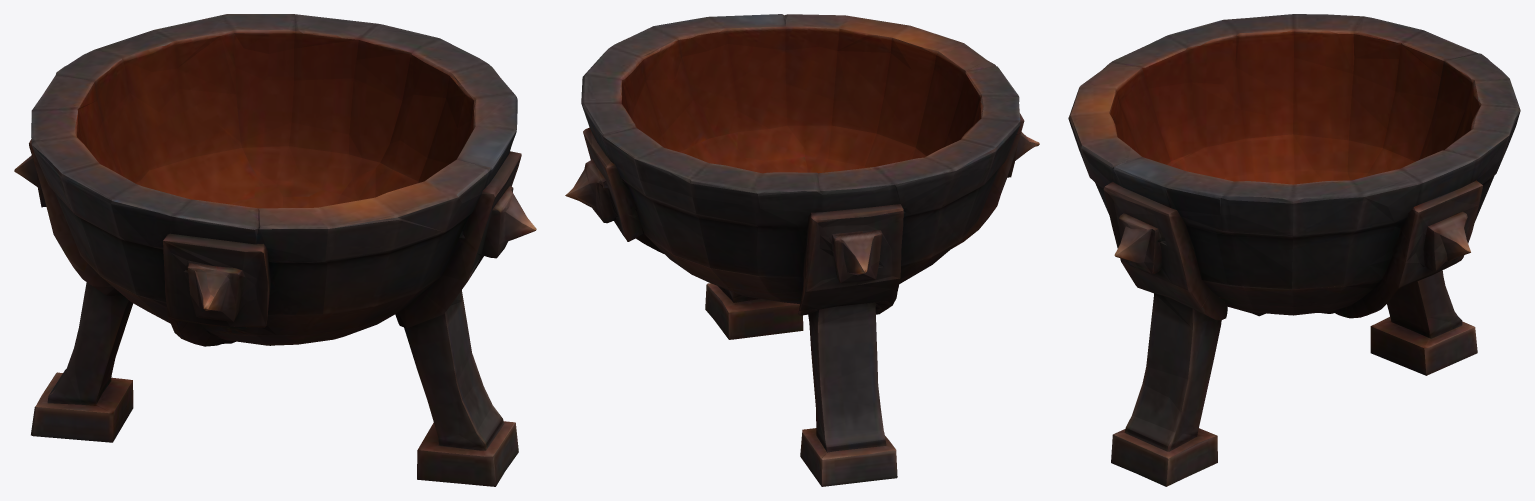
Rendered from d_braises_brasero.glb.
3 views of the same model, side by side, from view 1: azimuth 30°, elevation 25°; view 2: azimuth 150°, elevation 25°; view 3: azimuth 270°, elevation 25° (orthographic). The views are drawn at different scales.
Visible parts, largest first — view 1: geometry_0; view 2: geometry_0; view 3: geometry_0.
Part boxes in pixels (x1,y1,x2,y2): geometry_0: (14, 14, 536, 486); geometry_0: (565, 14, 1039, 486); geometry_0: (1068, 14, 1520, 486).
Bounding box in the file's own units: 1 × 0.7369 × 0.9894.
1 material, 1 textured.
